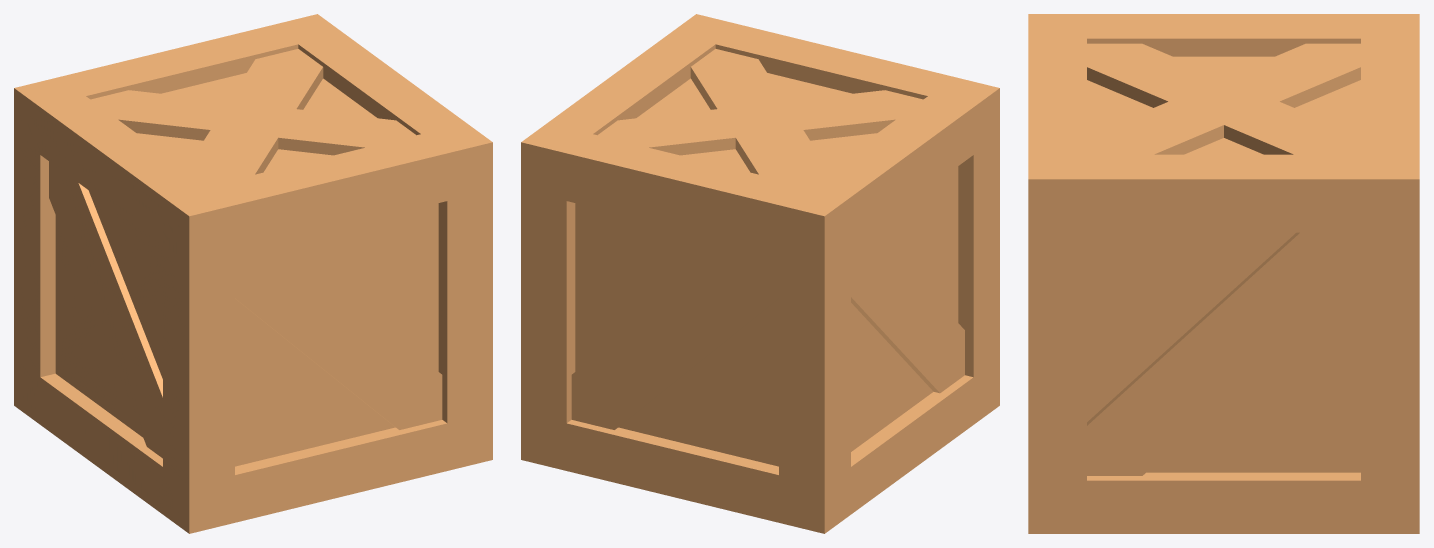
3 renders of one model, left to right at view 1: azimuth 30°, elevation 25°; view 2: azimuth 150°, elevation 25°; view 3: azimuth 270°, elevation 25°, orthographic. The views are drawn at different scales.
Parts seen in each view (by area): view 1: Box 2; view 2: Box 2; view 3: Box 2.
Boxes of the visible parts, box(x1,y1,x2,y2) form: Box 2: box(14, 14, 492, 533); Box 2: box(521, 14, 999, 533); Box 2: box(1028, 14, 1419, 533).
Size of the model in its own units: 100 by 100 by 100.
